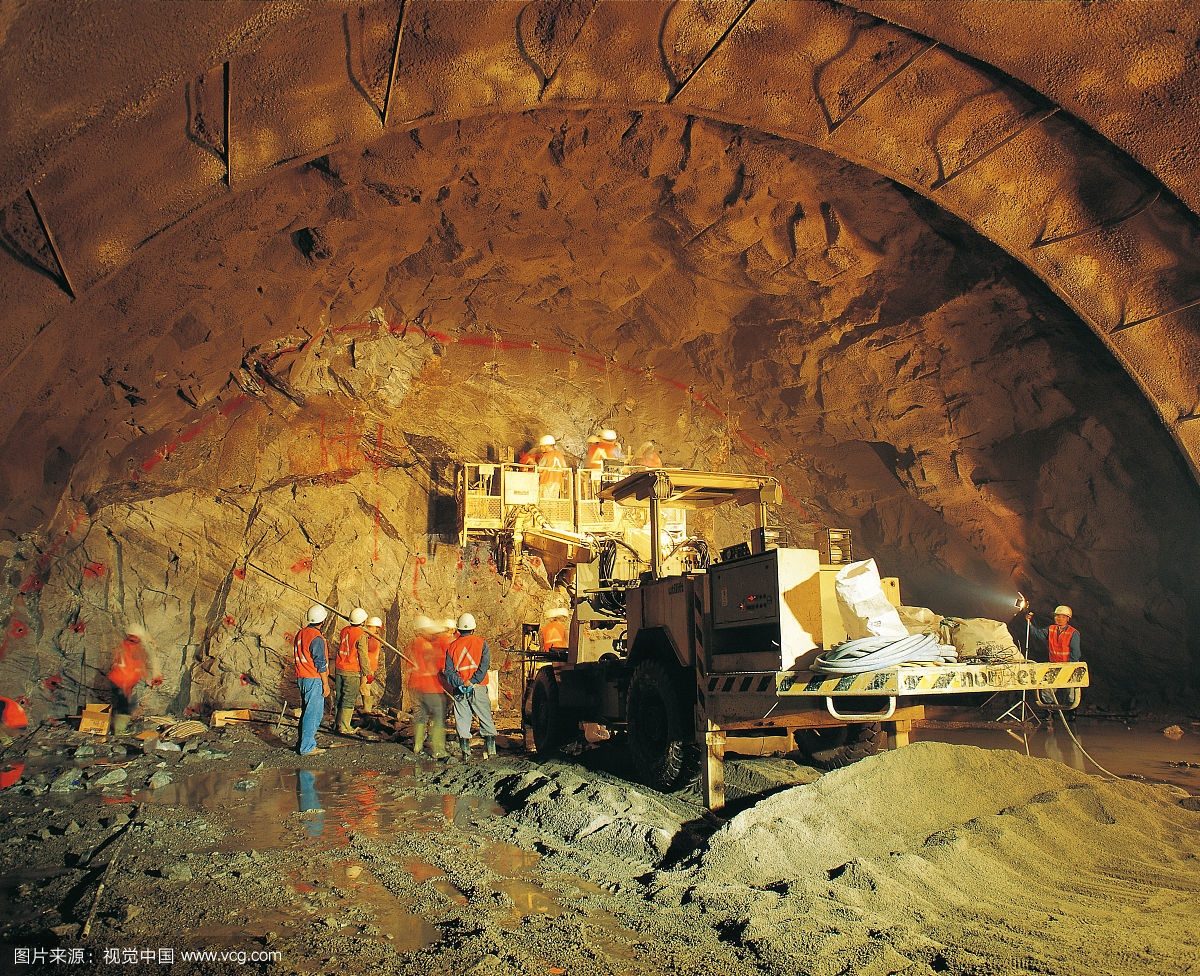white: (305, 602, 326, 628), (1052, 603, 1073, 627), (456, 611, 476, 635), (348, 607, 368, 629), (539, 433, 556, 453), (599, 428, 616, 446), (366, 616, 382, 634)
